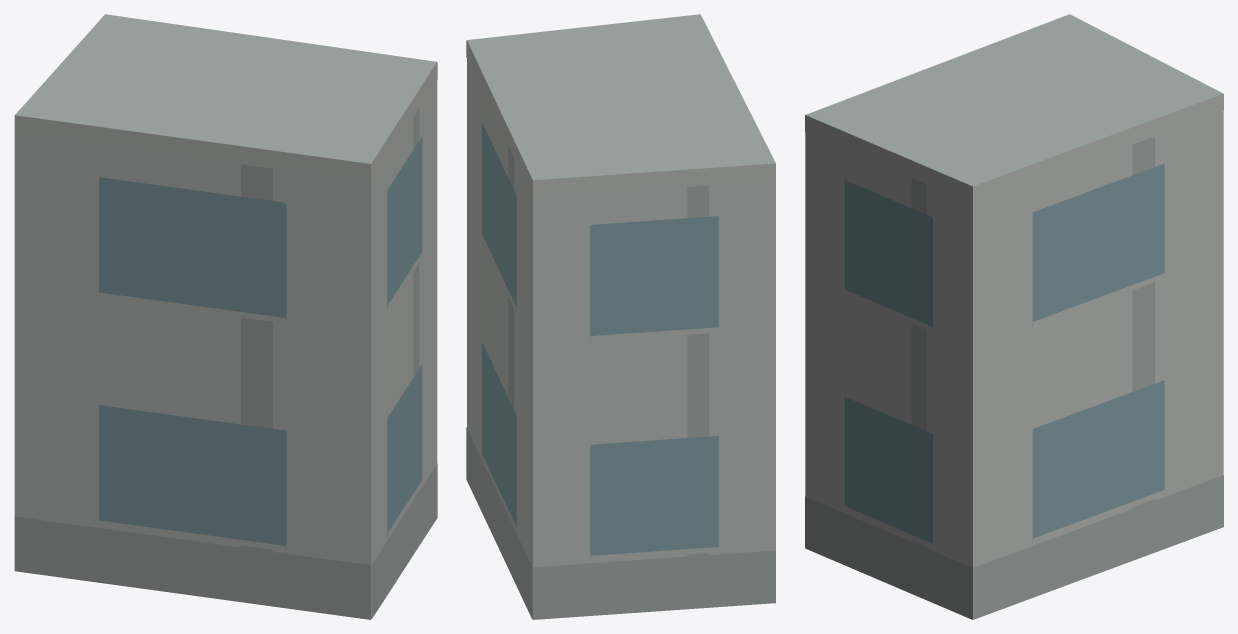
File: survey-upis-32568764.glb
3 renders of one model, left to right at view 1: azimuth 30°, elevation 25°; view 2: azimuth 150°, elevation 25°; view 3: azimuth 270°, elevation 25°, orthographic. The views are drawn at different scales.
Visible parts, largest first — view 1: survey-upis-32568764.tmp; view 2: survey-upis-32568764.tmp; view 3: survey-upis-32568764.tmp.
Boxes of the visible parts, <box> form: survey-upis-32568764.tmp: <box>14,14,437,619</box>; survey-upis-32568764.tmp: <box>466,14,775,619</box>; survey-upis-32568764.tmp: <box>805,14,1223,619</box>.
Size of the model in its own units: 5.21 by 6.1 by 5.35.
